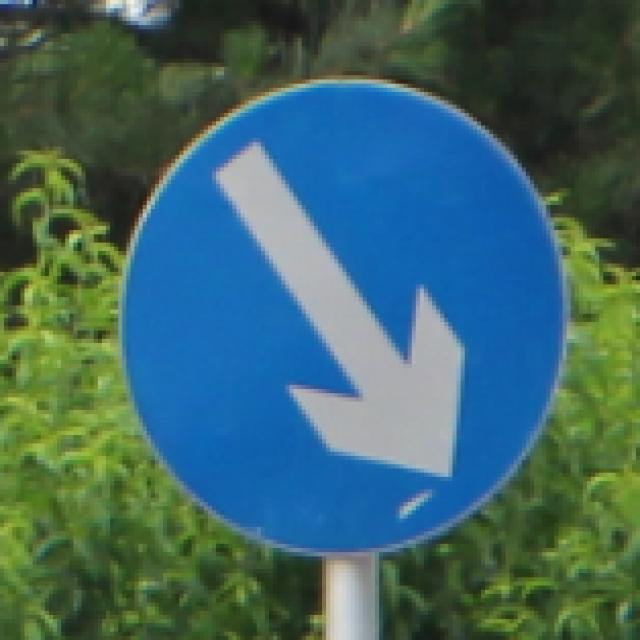Right: (117, 73, 561, 558)
